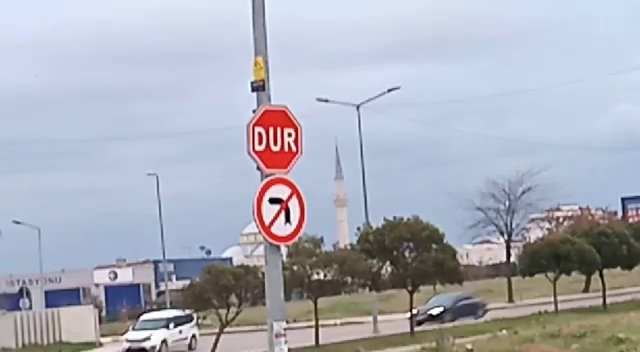no_left: (251, 173, 310, 248)
stop: (245, 103, 305, 175)
